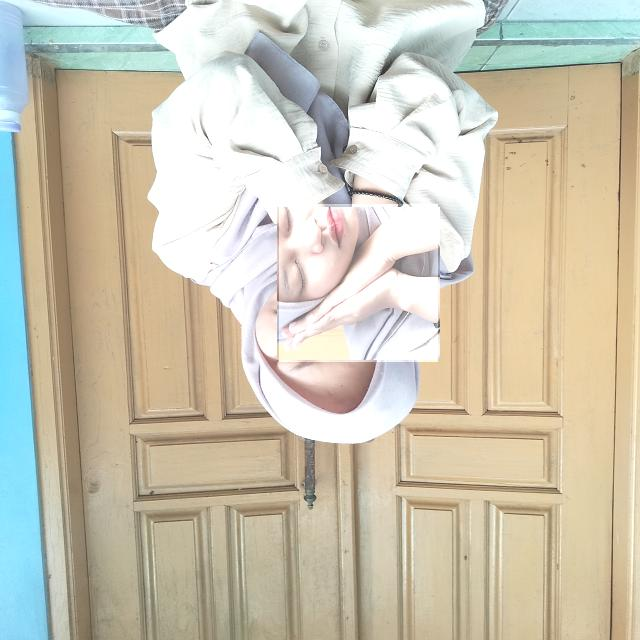tidur: (279, 204, 438, 362)
